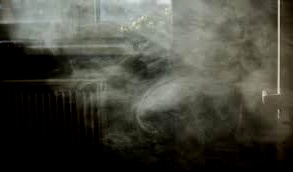smoke: (87, 1, 289, 140)
